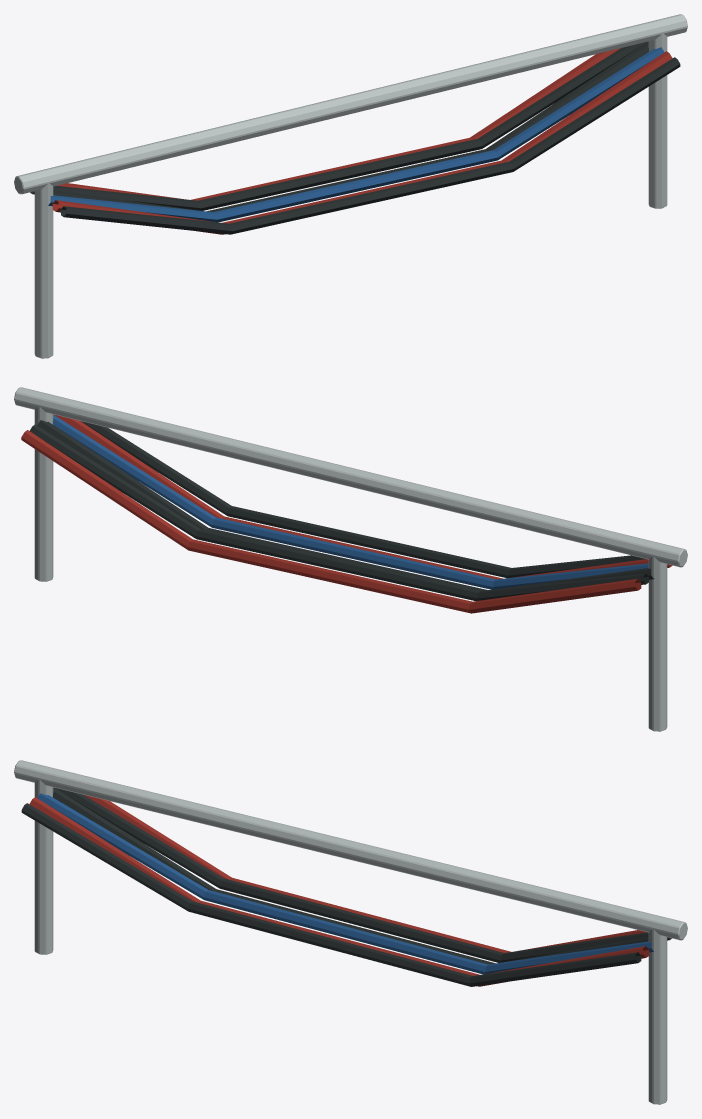
Rendered from runtime.glb.
The picture shows the model from 3 angles, top to bottom: view 1: azimuth 30°, elevation 25°; view 2: azimuth 150°, elevation 25°; view 3: azimuth 330°, elevation 25°; orthographic projection.
Visible parts, largest first — view 1: reactor-cable-tray-v07_nocol; view 2: reactor-cable-tray-v07_nocol; view 3: reactor-cable-tray-v07_nocol.
Part boxes in pixels (x1,y1,x2,y2): reactor-cable-tray-v07_nocol: [14, 14, 687, 358]; reactor-cable-tray-v07_nocol: [14, 387, 687, 731]; reactor-cable-tray-v07_nocol: [14, 760, 687, 1104].
Size of the model in its own units: 6.18 by 1.64 by 0.7236.
